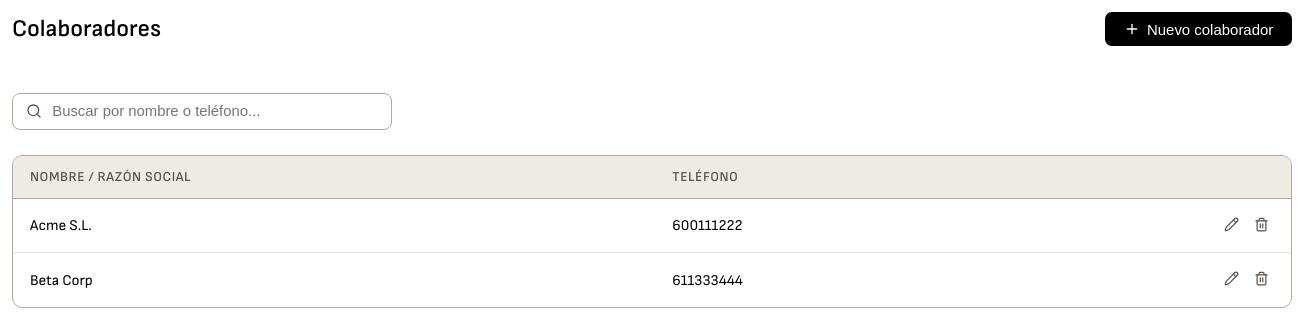
Test case: Collaborators › filters the list by search term
Expected: the text "Acme S.L." is shown, [13, 198, 655, 253]
Type "beta" into the search field.
click(214, 111); type("beta")  # box [50, 102, 378, 120]
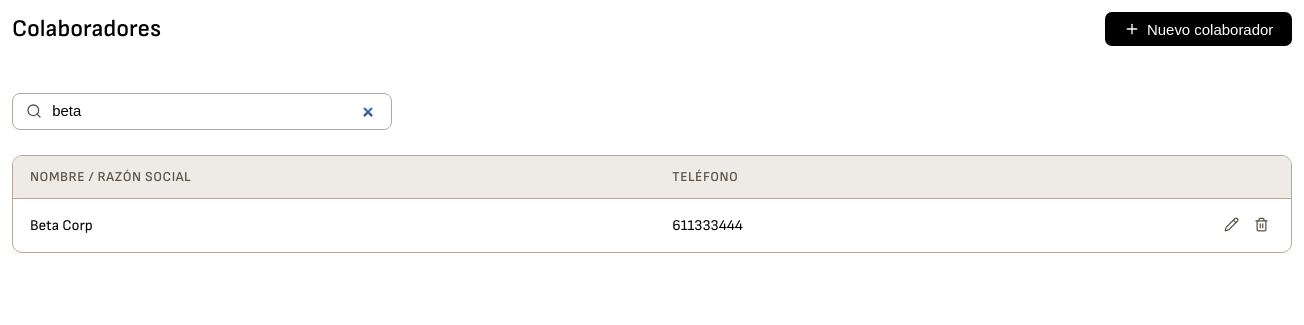
Expected: the text "Beta Corp" is shown, [13, 198, 655, 252]
Result: the text "Acme S.L." is gone
